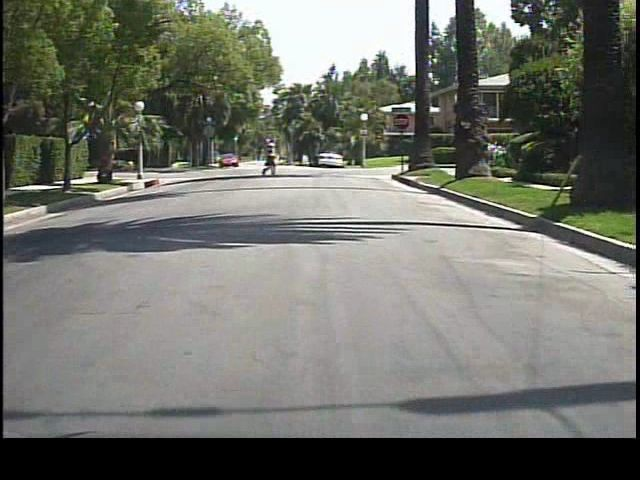person: (263, 136, 281, 176)
